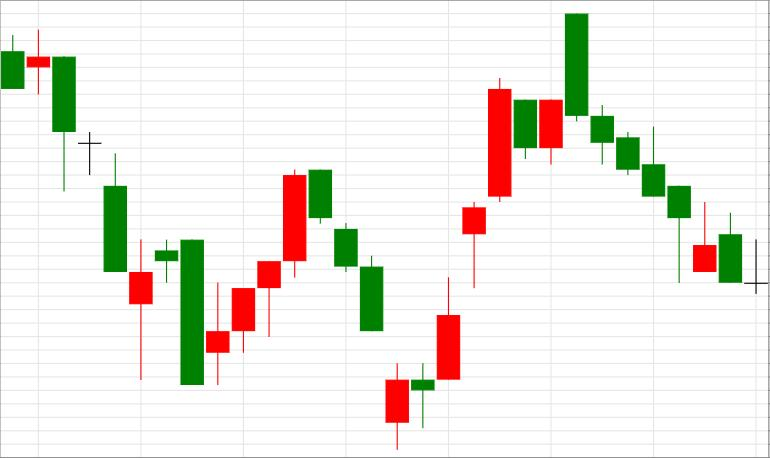hammer_rise: (566, 13, 691, 282)
three_black_crows_fall: (206, 169, 383, 385)
three_white_soldiers_rise: (309, 77, 511, 451)
